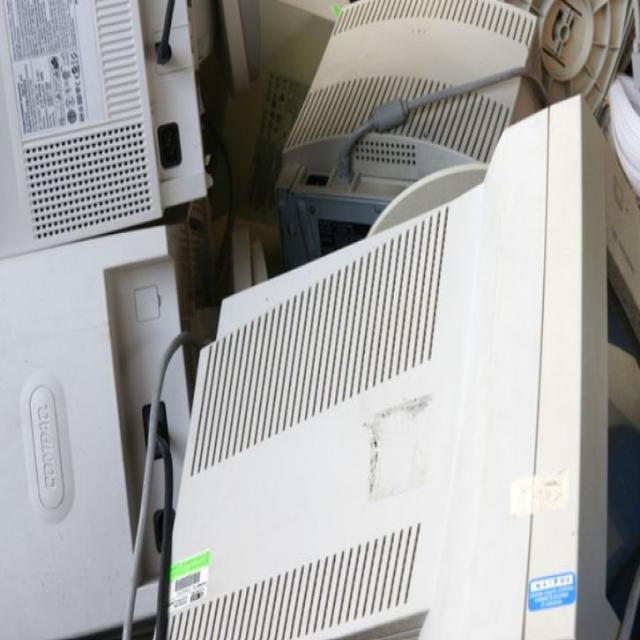electronic: (129, 76, 639, 640)
